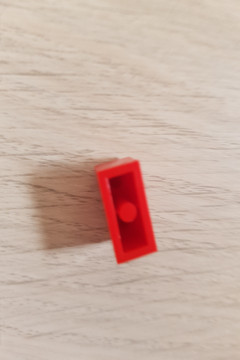1x2 red: (89, 155, 165, 265)
